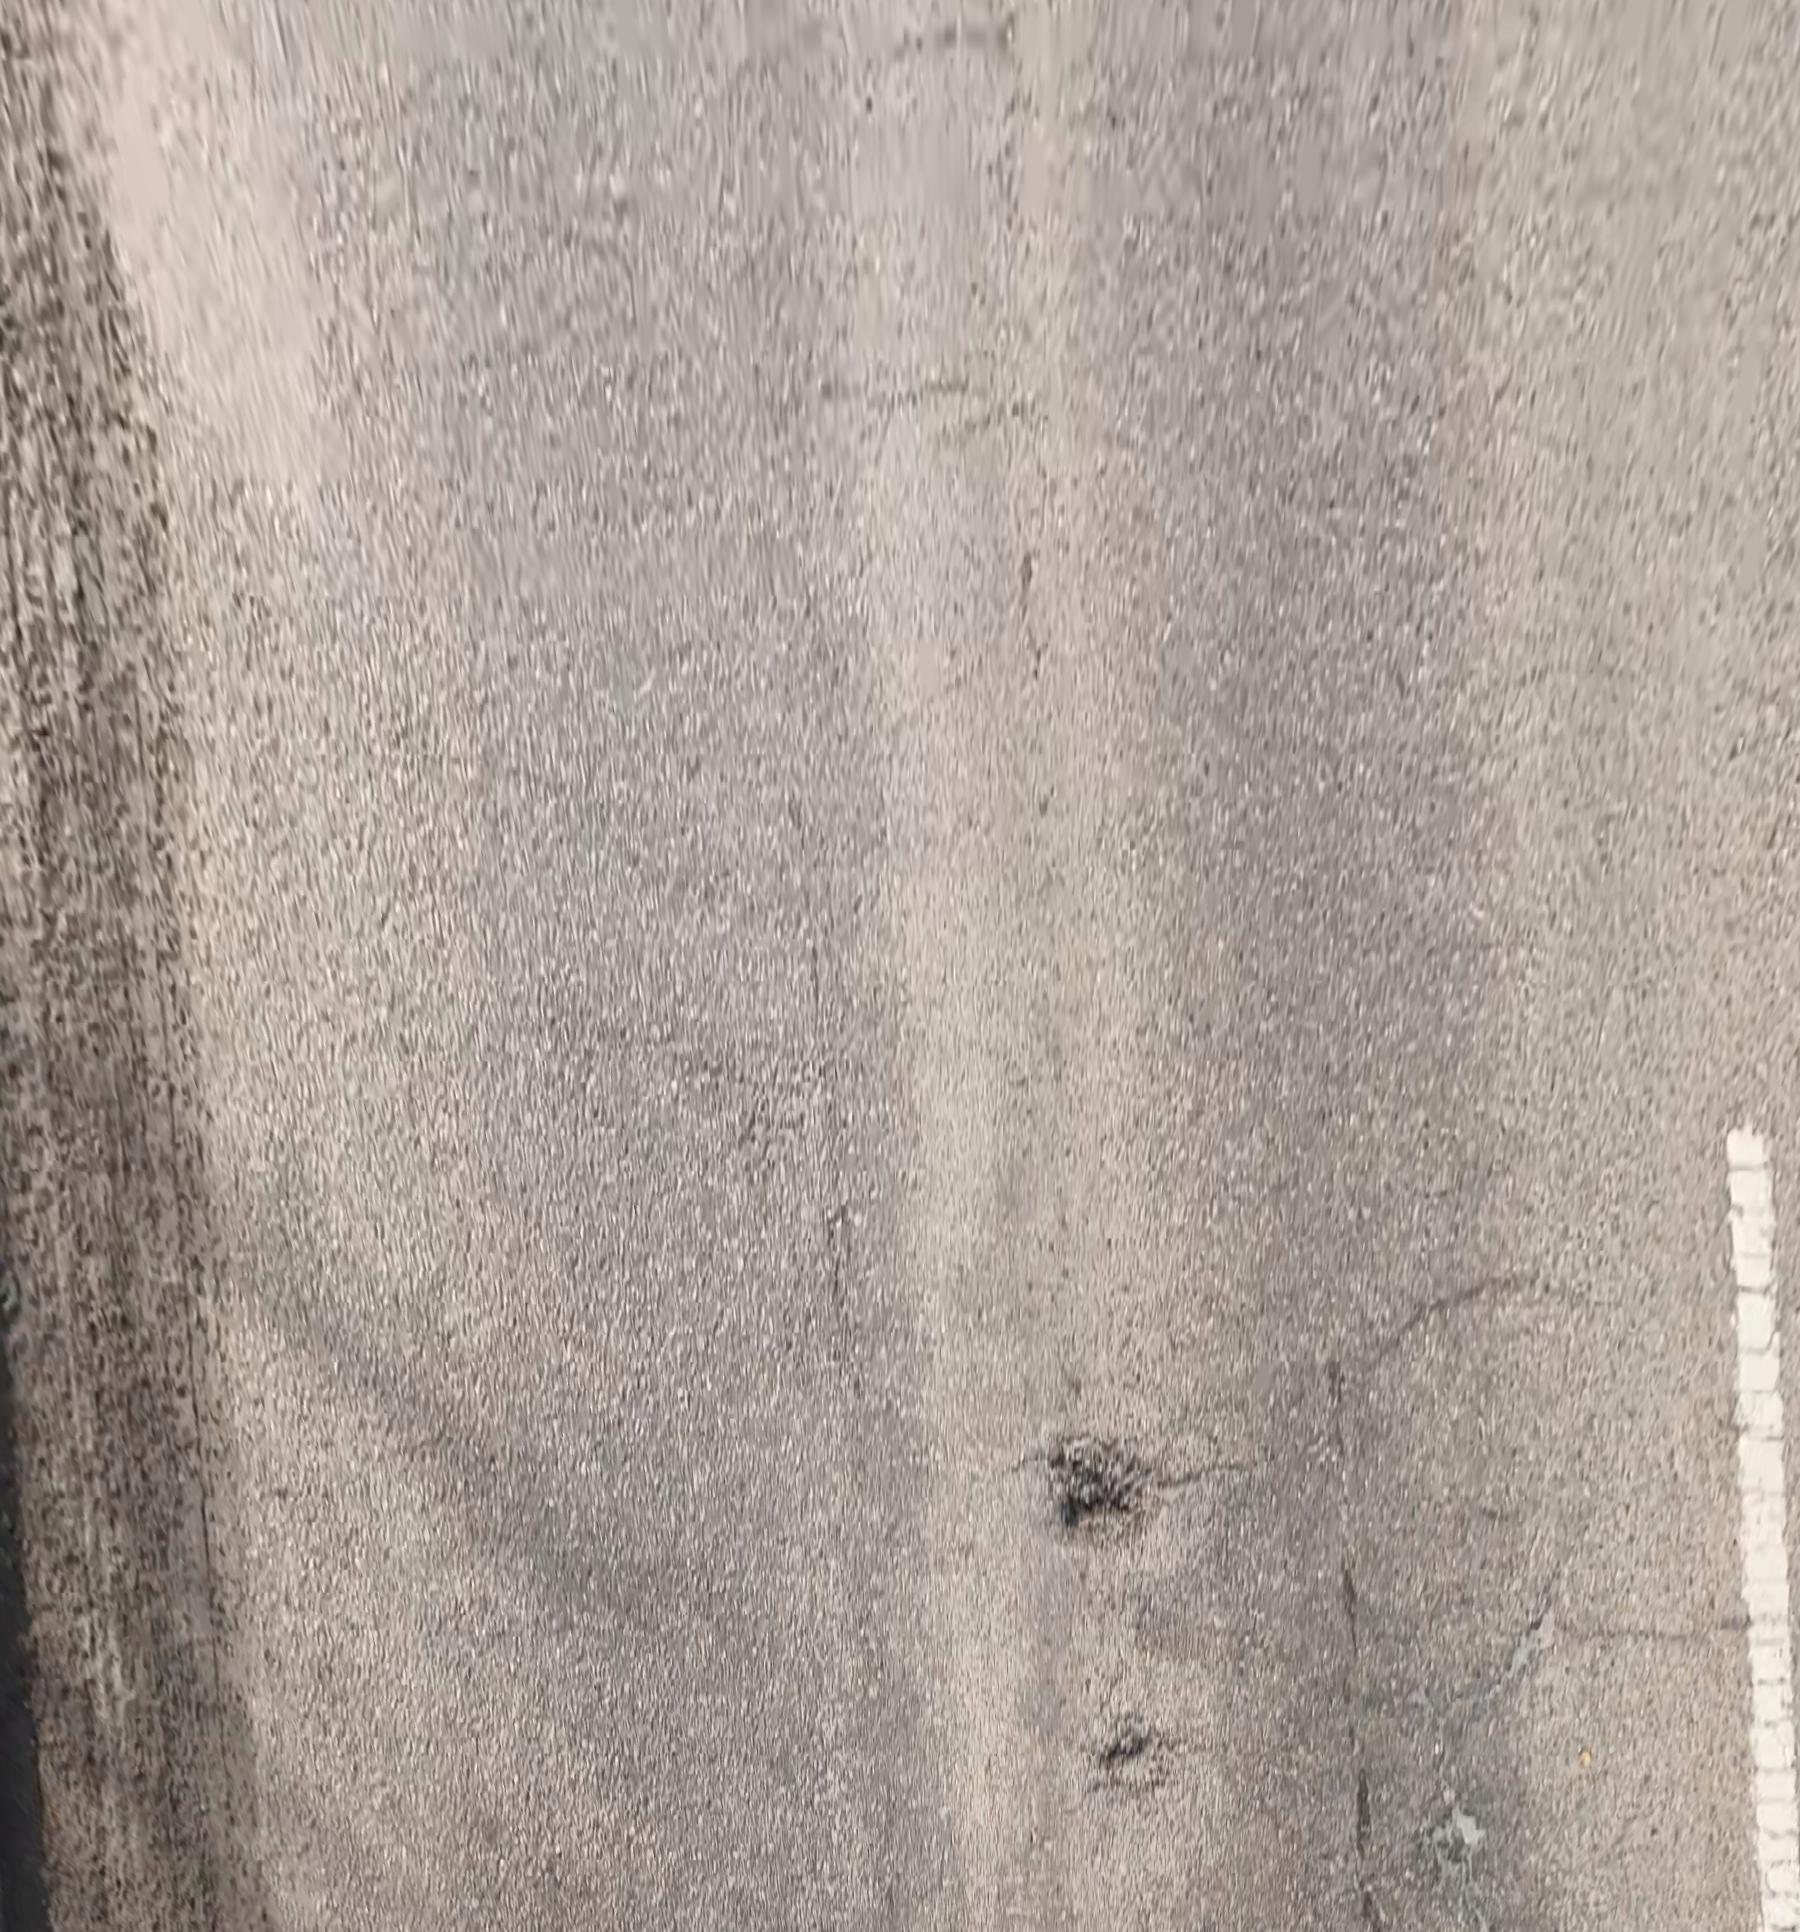pothole: (1054, 1440, 1125, 1521), (1111, 1739, 1166, 1793)
